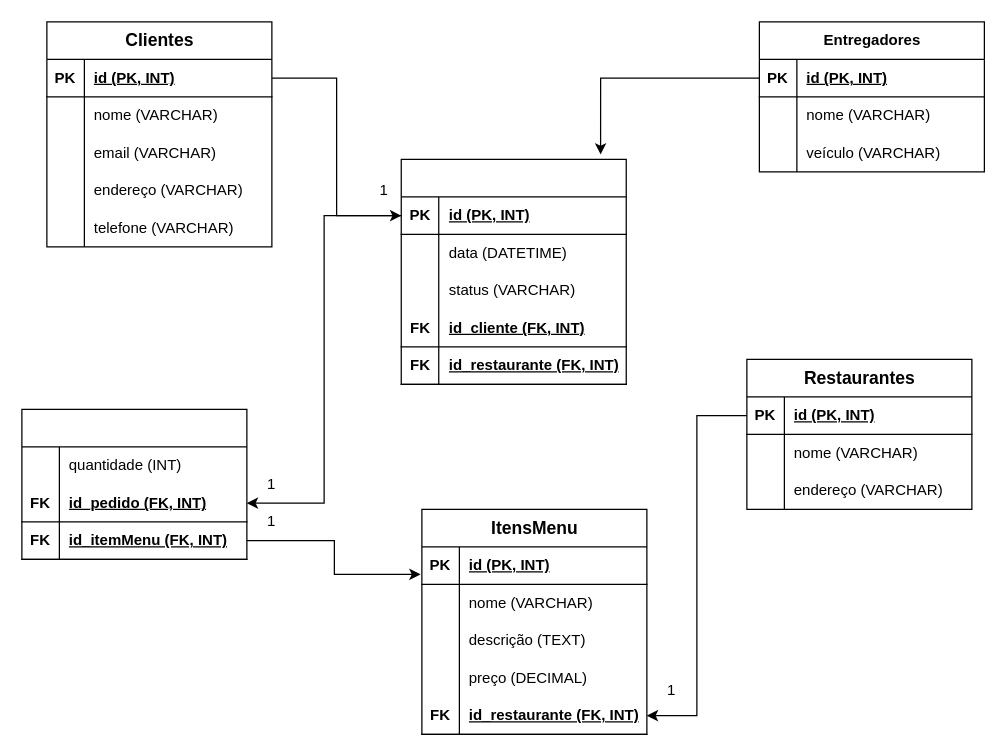
This 1006x756 diagram has some shape labels left out. Each missing label, with the box of its shape:
ItensPedido: (21, 408, 247, 559)
Pedidos: (400, 158, 626, 384)
